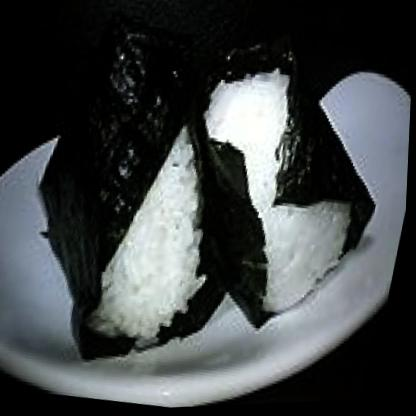rice roll: (21, 16, 237, 358), (180, 39, 379, 325)
